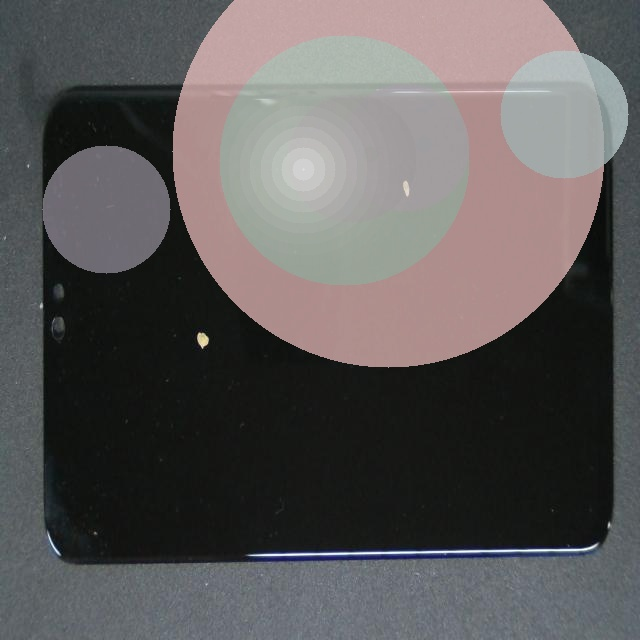stain: (202, 66, 598, 254), (113, 141, 292, 475)
